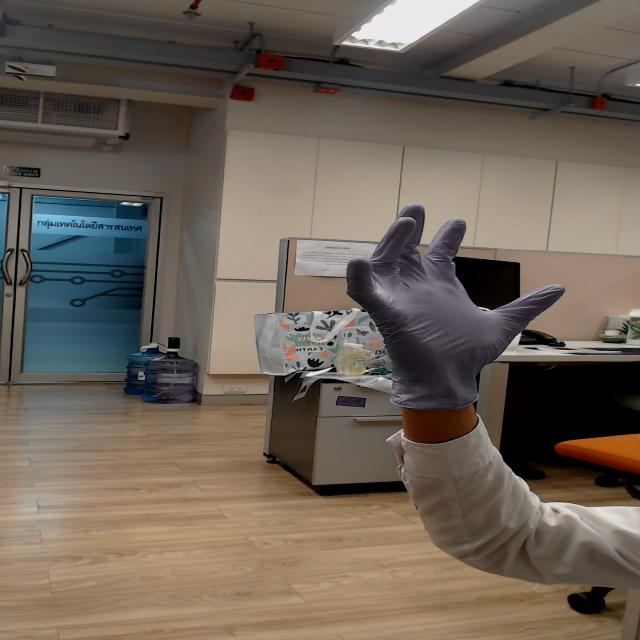glove: (316, 197, 588, 393)
